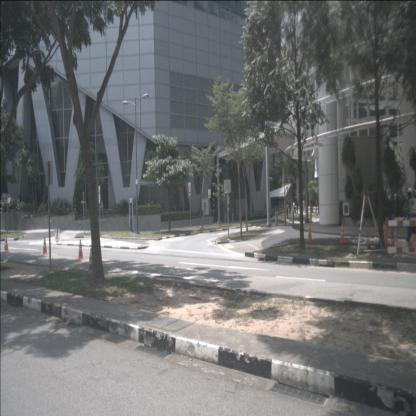cone: (88, 248, 96, 274), (76, 239, 85, 260), (339, 222, 347, 243), (41, 236, 49, 254), (382, 221, 388, 245), (392, 223, 398, 244), (307, 223, 313, 242), (3, 236, 9, 252)
